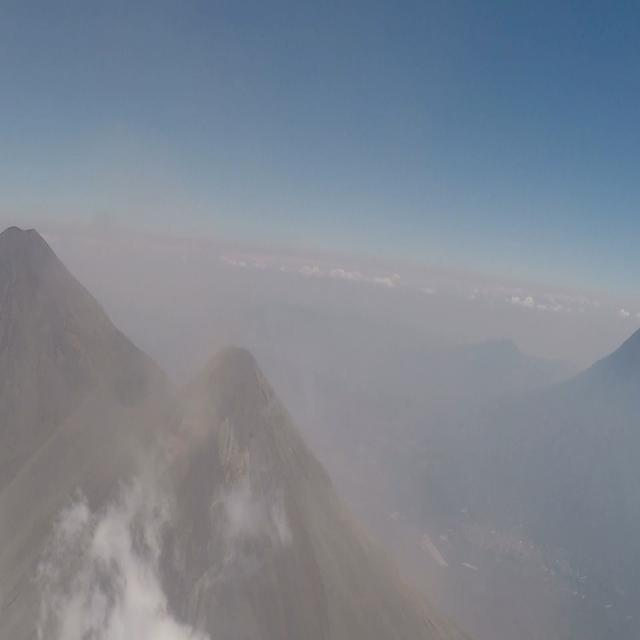Summit: (149, 333, 322, 499)
